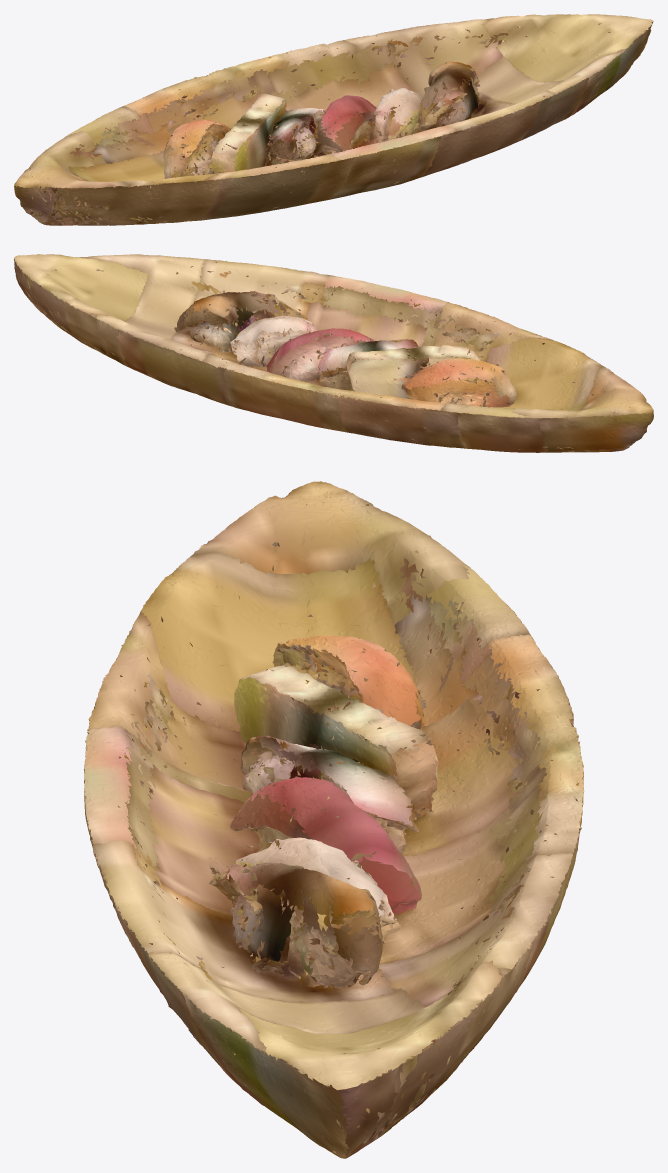
The model's file is sushi_boat_nigiri_ios_simple.glb.
3 renders of one model, top to bottom at view 1: azimuth 30°, elevation 25°; view 2: azimuth 150°, elevation 25°; view 3: azimuth 270°, elevation 25°, orthographic. The views are drawn at different scales.
Visible parts, largest first — view 1: Object_2; view 2: Object_2; view 3: Object_2.
Part boxes in pixels (x1=…): Object_2: x1=14, y1=14, x2=653, y2=225; Object_2: x1=14, y1=254, x2=653, y2=452; Object_2: x1=84, y1=481, x2=584, y2=1158.
Bounding box in the file's own units: 0.4573 × 0.0398 × 0.1563.
Materials: 1 (1 with a texture image).
